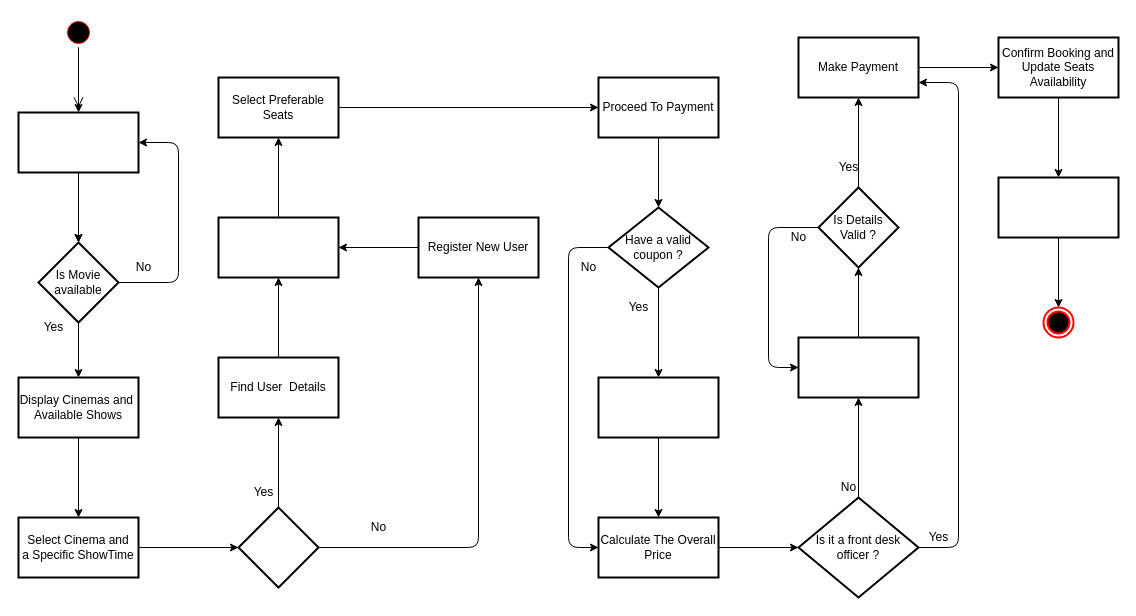
Image size: 1136x616. Some labels were removed from this diagram. Here are the shapes that lost their labels. From the top down, the centre of each, then its label:
At point 78,142: "Search a Movie".
At point 1058,207: "Send Notification".
At point 278,247: "Display Seating Arrangement".
At point 858,367: "Choose Your Credit Card Type and Enter its Details".
At point 658,407: "Apply the coupon".
At point 278,547: "Is it an existing user ?".
